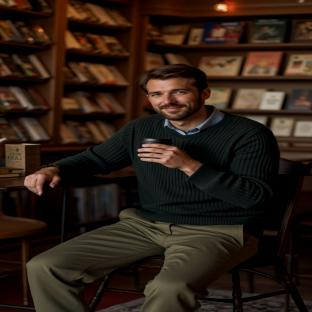Human: (25, 64, 280, 312)
